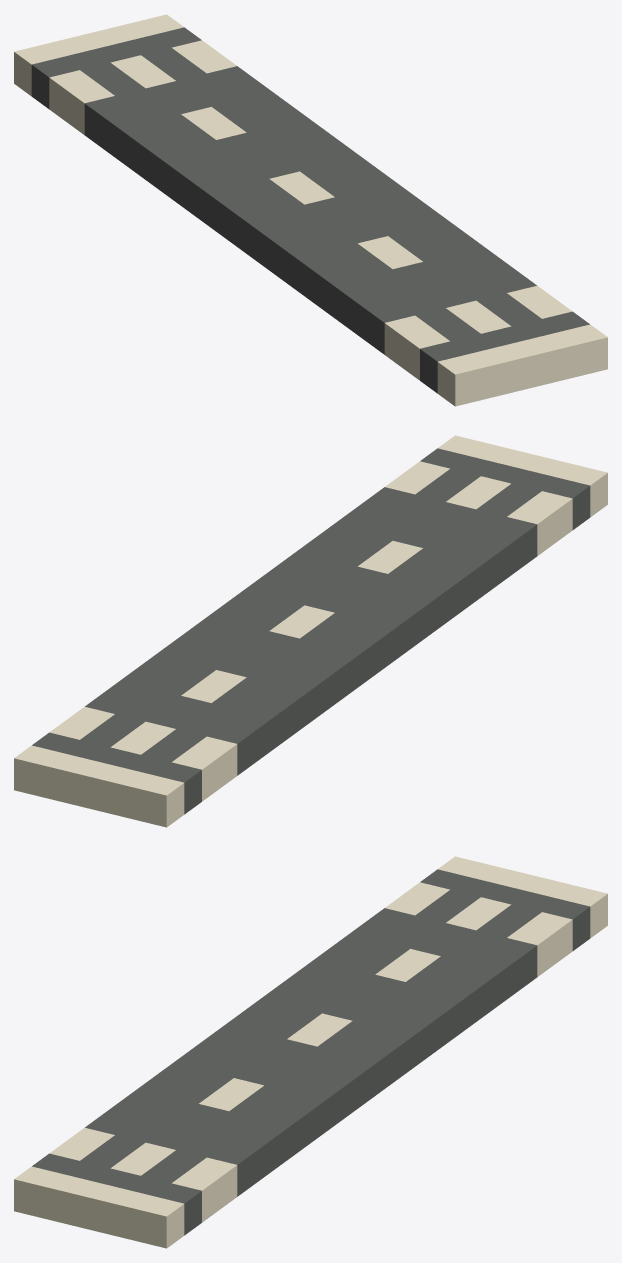
Rendered from 5x25xroad.obj.
3 views of the same model, one above another, from view 1: azimuth 30°, elevation 25°; view 2: azimuth 150°, elevation 25°; view 3: azimuth 330°, elevation 25° (orthographic).
Bounding box in the file's own units: 5 × 1 × 25.
